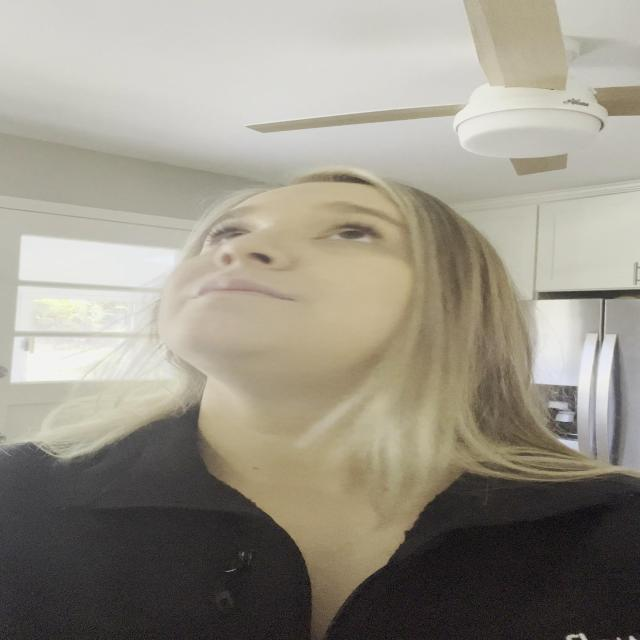no-helmet: (153, 181, 406, 381)
